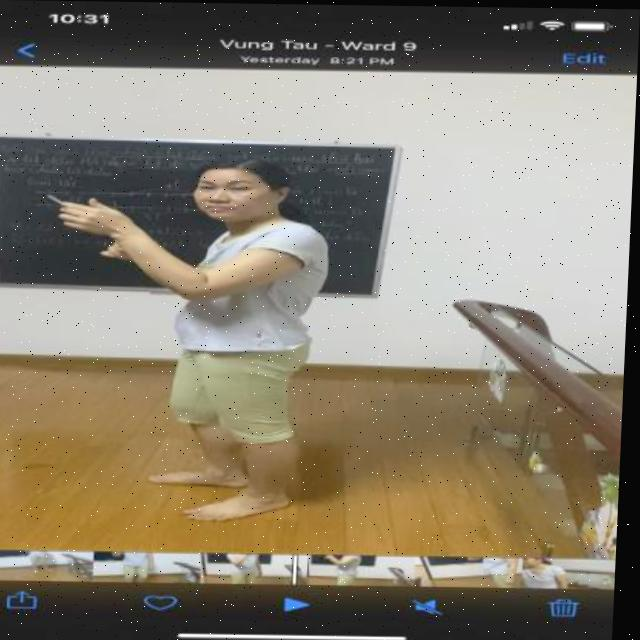cigarette: (47, 193, 71, 208)
